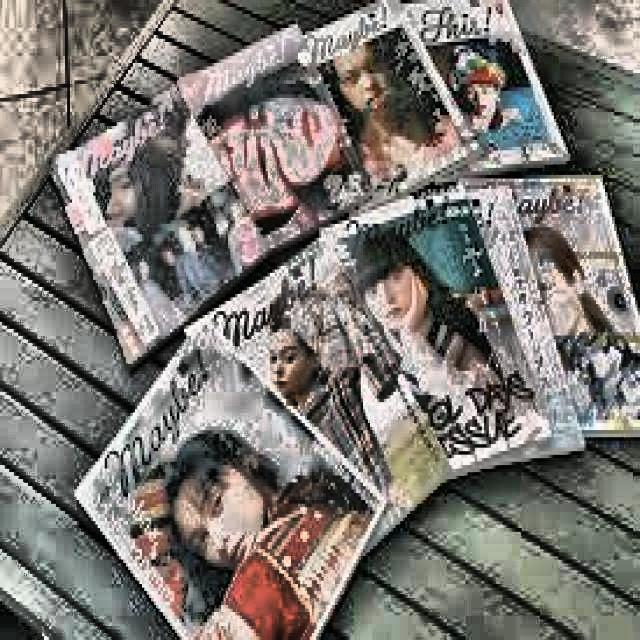Paper: (72, 318, 384, 637), (182, 228, 445, 567), (321, 196, 547, 476), (47, 94, 263, 364), (454, 175, 638, 430), (412, 175, 582, 448), (175, 17, 370, 252), (300, 0, 482, 217), (402, 0, 565, 164)
